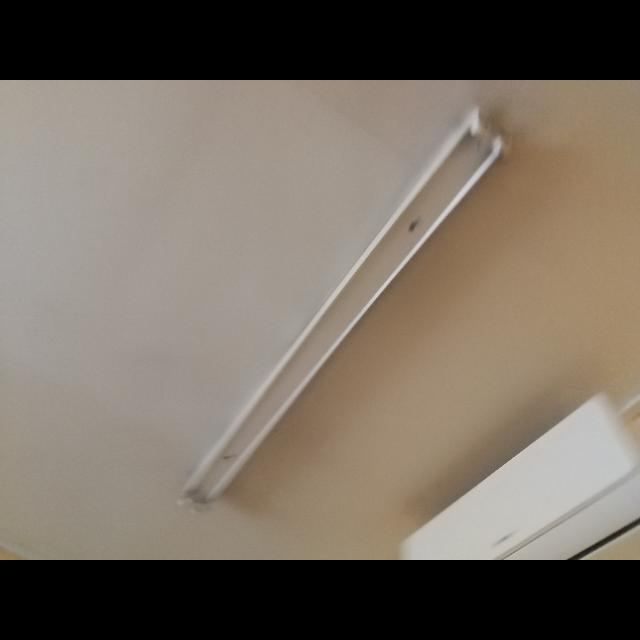Straight-Tube-Fluorescent-Lamp: (161, 99, 529, 513)
